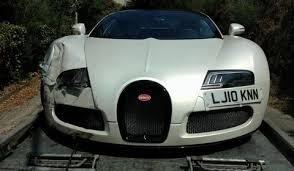Broken-glass: (56, 67, 92, 92)
Dent: (39, 36, 72, 129), (196, 83, 269, 109)
Scratch: (46, 118, 93, 139)
